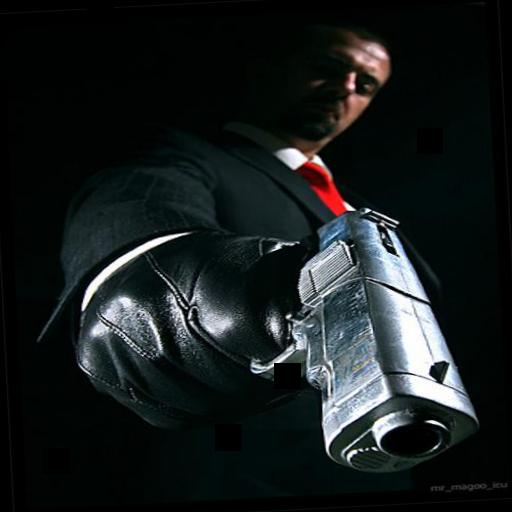Handgun: (217, 200, 472, 476)
